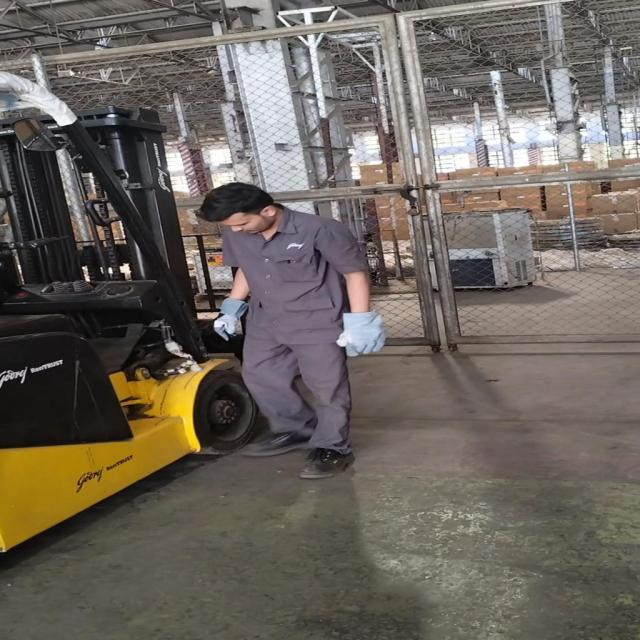Gloves-Detection: (335, 313, 392, 354), (217, 298, 246, 338)
